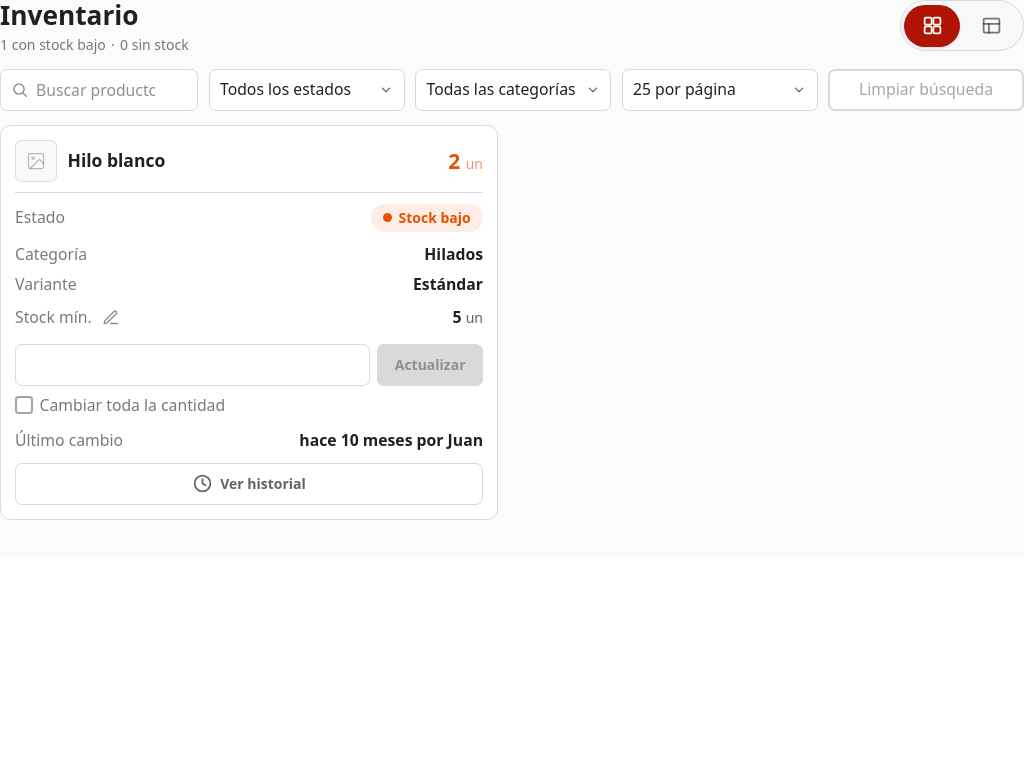
Test: InventoryPage › adds a typed amount to the current stock, previews the result and adjusts on confirm
This screenshot has width=1024, height=768.
Expected: the button "Actualizar" is disabled, top-left (377, 344), bottom-right (483, 386)
In the field named "Cuánto sumar o restar a Hilo blanco": (193, 365) top-left (15, 344), bottom-right (370, 386), type "6"
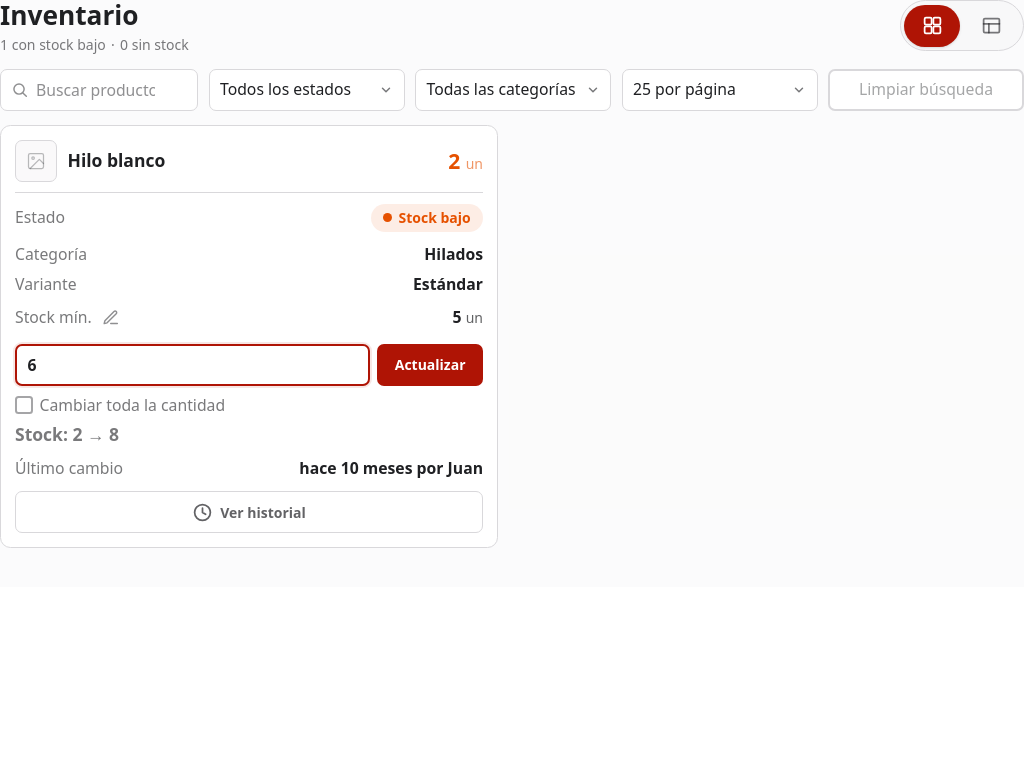
Expected: the text with test id "delta-preview" reads "Stock: 2 → 8", top-left (15, 422), bottom-right (119, 446)
Expected: the button "Actualizar" is enabled
Click the button "Actualizar": (430, 365) top-left (377, 344), bottom-right (483, 386)
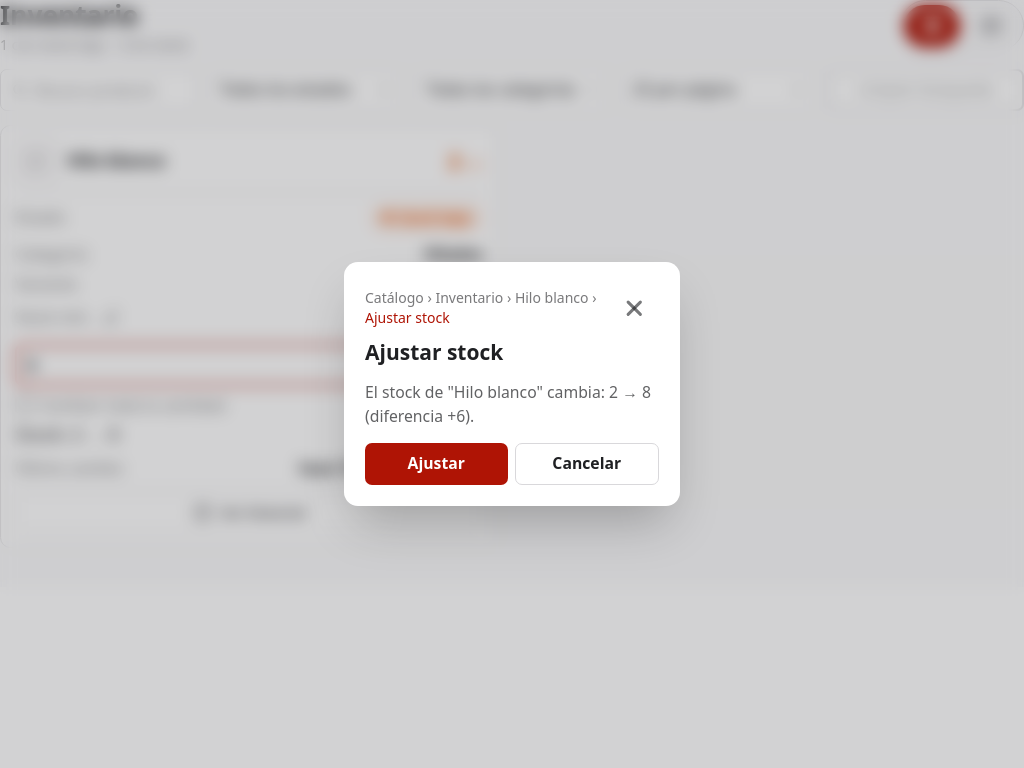
Expected: the dialog shows "2 → 8 (diferencia +6)", top-left (365, 381), bottom-right (651, 427)
Click the button "Ajustar": (436, 464) top-left (365, 443), bottom-right (508, 485)
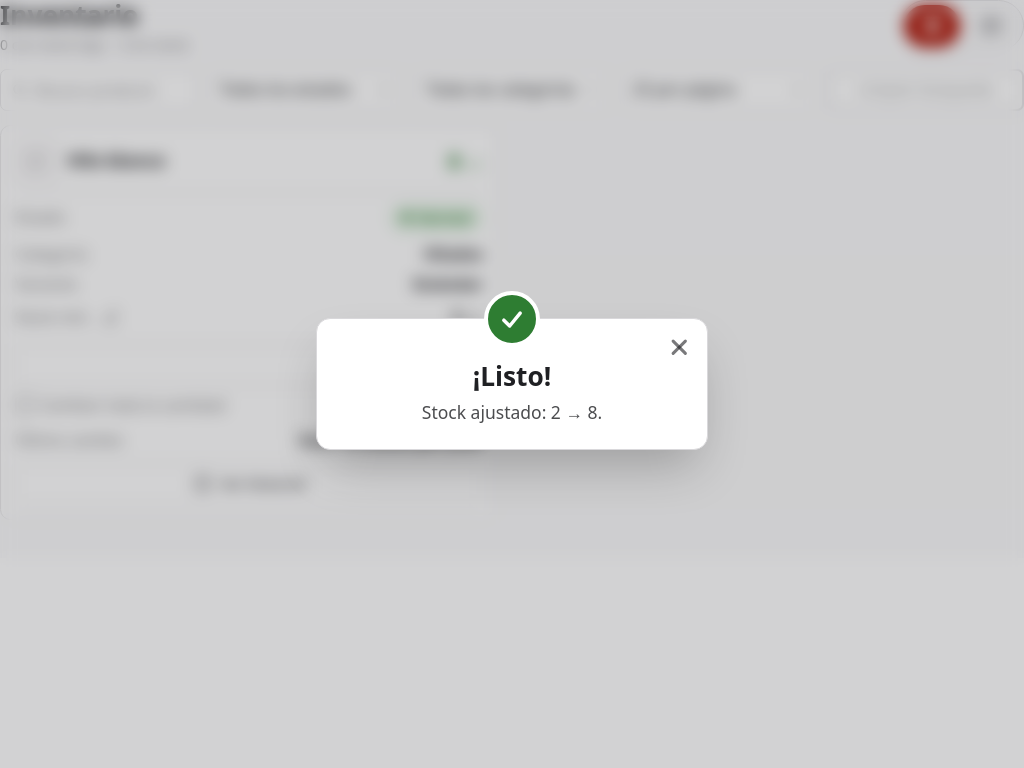
Expected: the dialog is gone
Expected: the heading "¡Listo!" is shown, top-left (473, 361), bottom-right (551, 393)
Expected: the text "Stock ajustado: 2 → 8." is shown, top-left (422, 400), bottom-right (602, 424)
